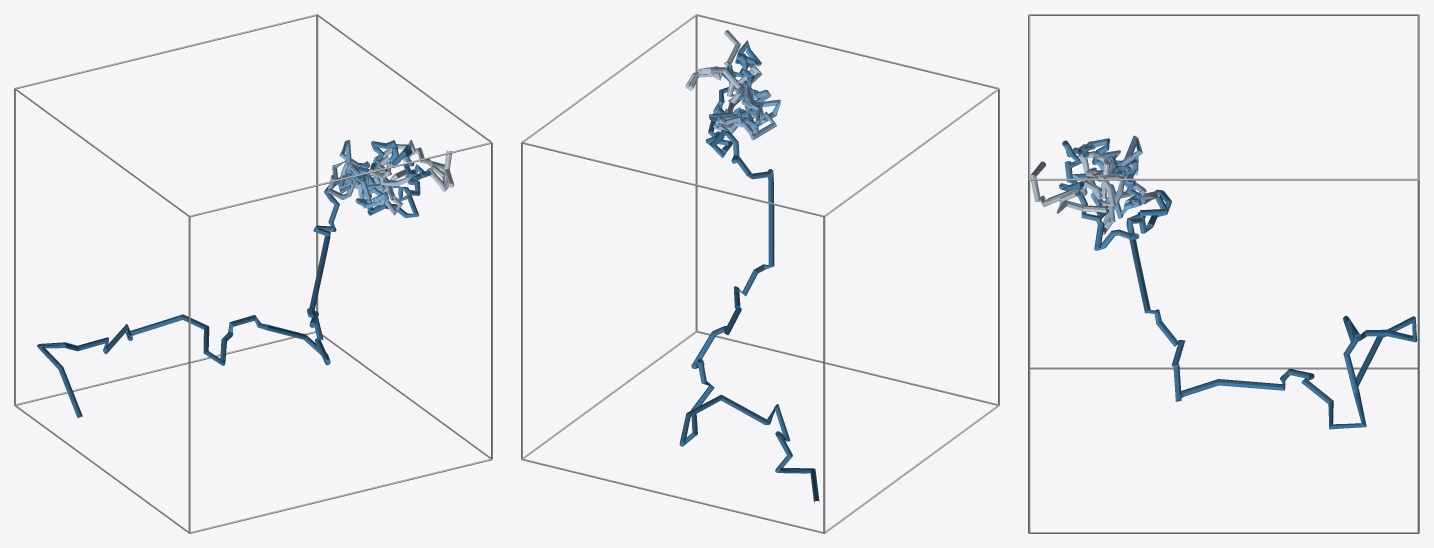
3 renders of one model, left to right at view 1: azimuth 30°, elevation 25°; view 2: azimuth 150°, elevation 25°; view 3: azimuth 270°, elevation 25°, orthographic. The views are drawn at different scales.
Parts seen in each view (by area): view 1: geometry_0, geometry_1; view 2: geometry_0, geometry_1; view 3: geometry_0, geometry_1.
Boxes of the visible parts, left/top/right/bottom form: geometry_0: left=37, top=140, right=454, bottom=417; geometry_1: left=14, top=14, right=492, bottom=533; geometry_0: left=679, top=30, right=819, bottom=503; geometry_1: left=521, top=14, right=999, bottom=533; geometry_0: left=1030, top=135, right=1417, bottom=429; geometry_1: left=1028, top=14, right=1419, bottom=533.
Bounding box in the file's own units: 0.3016 × 0.3035 × 0.3016.
